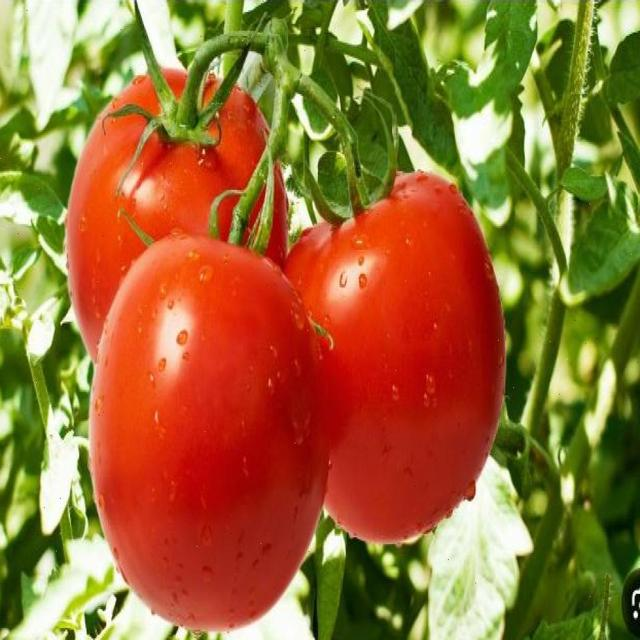Healthy Fruit: (119, 149, 170, 270)
